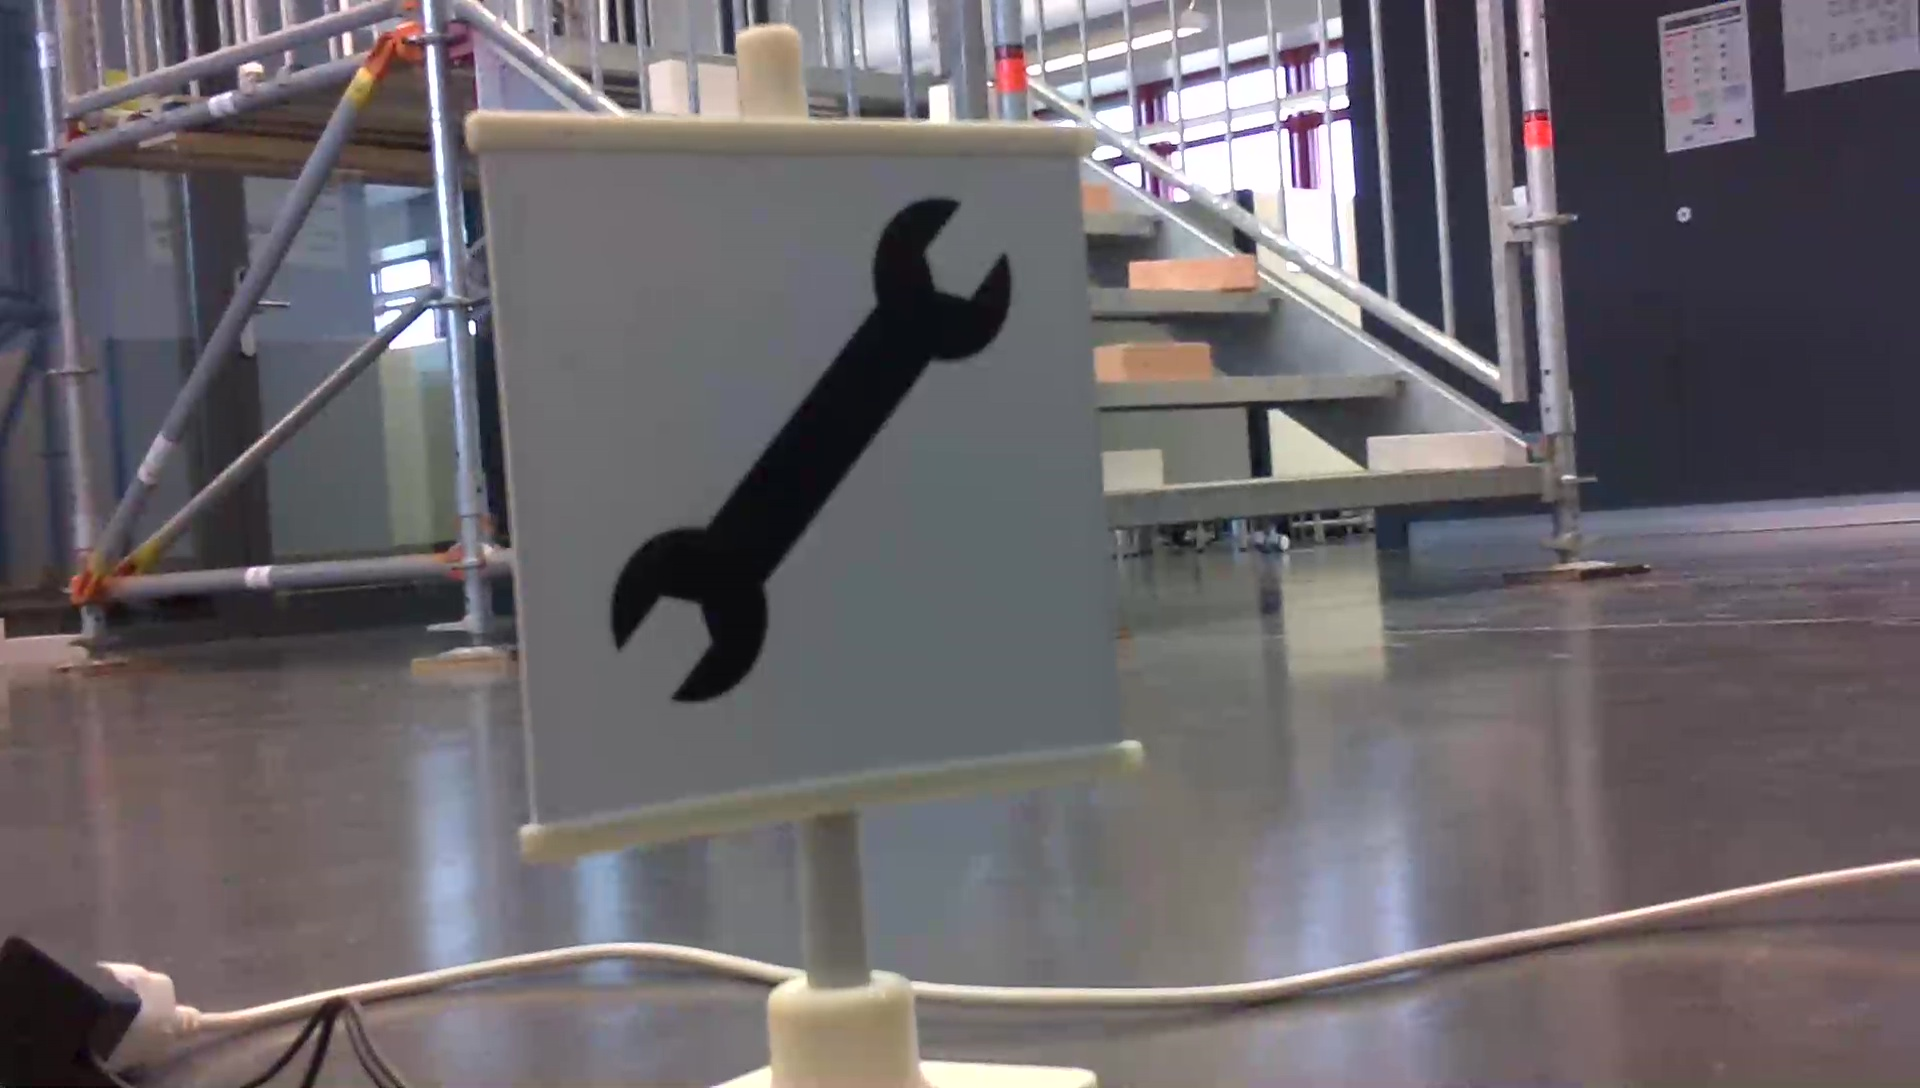brick: (1370, 435, 1505, 468), (1095, 342, 1208, 378), (1130, 260, 1258, 287), (1102, 447, 1160, 489), (1080, 182, 1112, 215)
edge: (1108, 466, 1542, 530), (1095, 368, 1404, 400), (1091, 287, 1283, 313), (1087, 214, 1166, 232)
wrench: (597, 187, 1025, 717)
